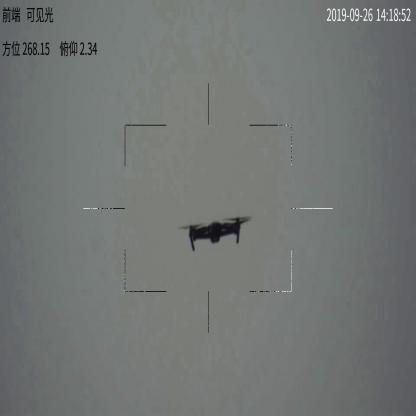uav: (176, 213, 252, 253)
